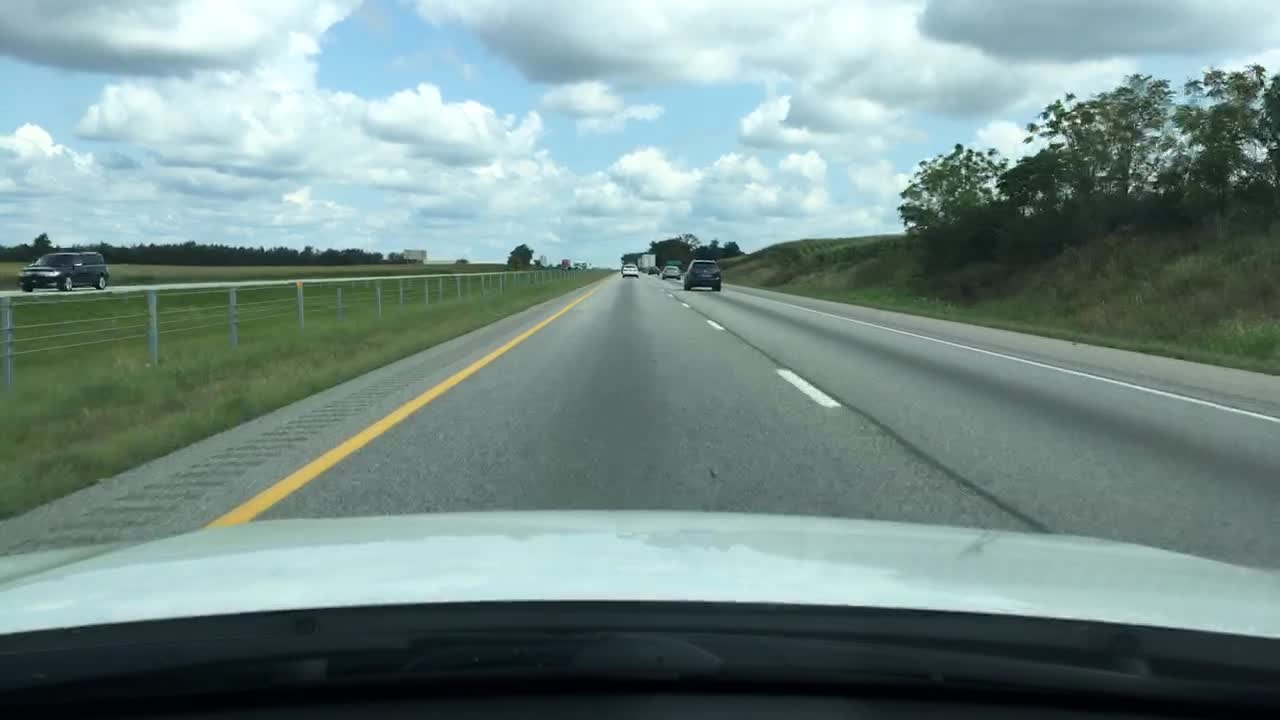car: (16, 250, 110, 291), (683, 257, 724, 290), (661, 264, 681, 282), (622, 263, 638, 278), (646, 264, 660, 275)
traffic sign: (403, 249, 429, 261), (666, 259, 684, 266), (561, 257, 570, 271)
truck: (636, 251, 657, 271), (572, 258, 590, 271)
